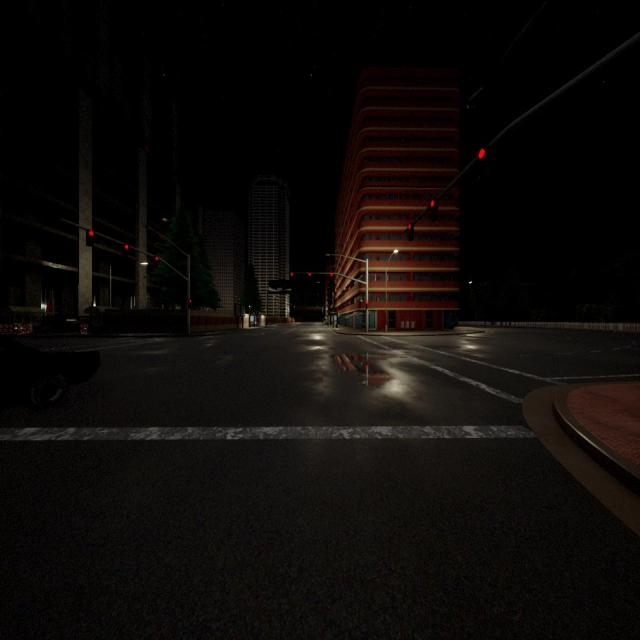Vehicle: (0, 336, 100, 409)
traffic_light: (430, 199, 438, 222), (86, 229, 94, 247), (407, 222, 414, 242), (478, 148, 486, 159), (123, 244, 129, 258), (154, 256, 158, 266), (188, 299, 191, 308), (365, 300, 368, 309), (290, 272, 294, 276), (308, 272, 312, 276), (330, 272, 333, 277)
